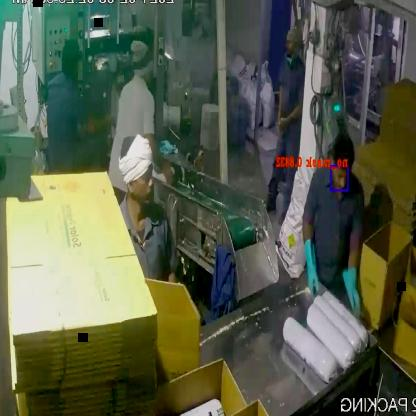glove: (336, 259, 366, 332), (302, 235, 322, 303)
no_glove: (393, 296, 416, 344), (279, 99, 307, 134), (276, 78, 286, 134)
